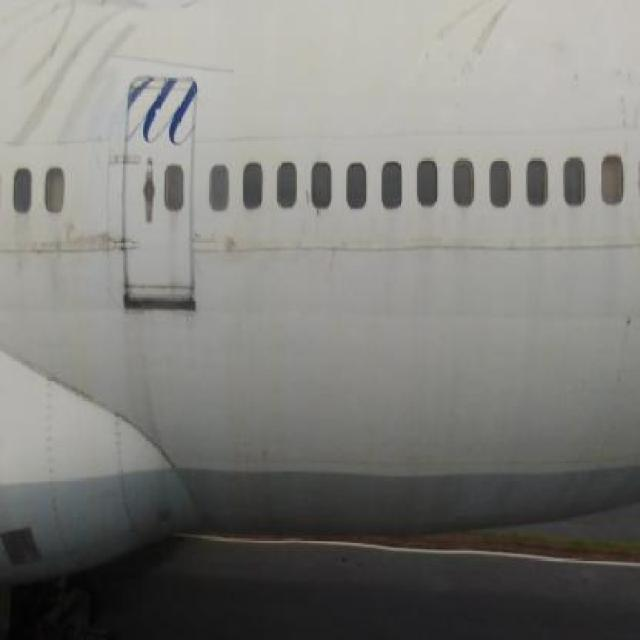Scartch: (0, 4, 129, 156), (423, 0, 514, 91), (50, 221, 135, 259), (617, 61, 640, 156), (617, 286, 640, 343)
